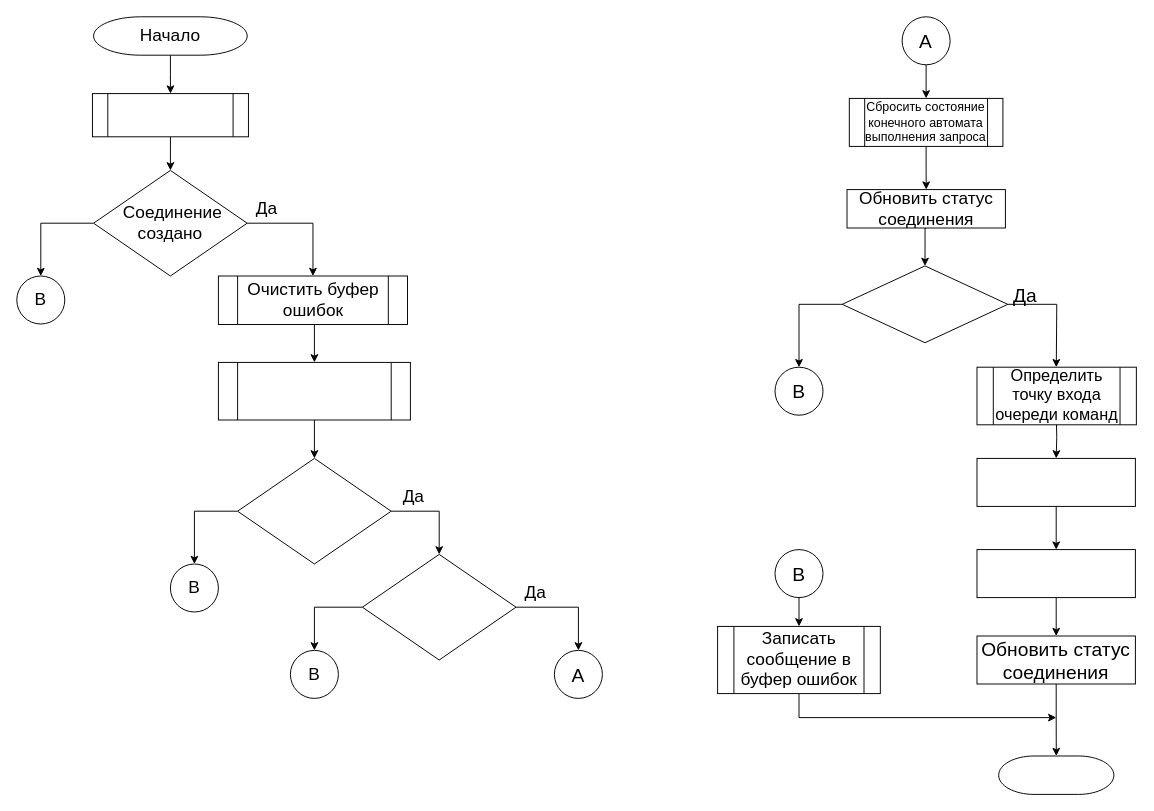
Some shapes in this 1154 by 811 pixel diagram are drawn without their labels. Here are the shapes that lost their labels. From the top down, the box of each, then its label:
(91, 93, 248, 137): Блокировка мьютекса
(841, 265, 1008, 343): Команда корректна
(217, 361, 410, 420): Очистить состояние ошибки соединения
(976, 457, 1135, 506): Указать протокол запроса
(237, 457, 391, 564): Соединение открыто
(976, 549, 1135, 598): Добавить команду в очередь
(361, 553, 516, 660): Соединение свободно
(998, 755, 1114, 794): Конец
